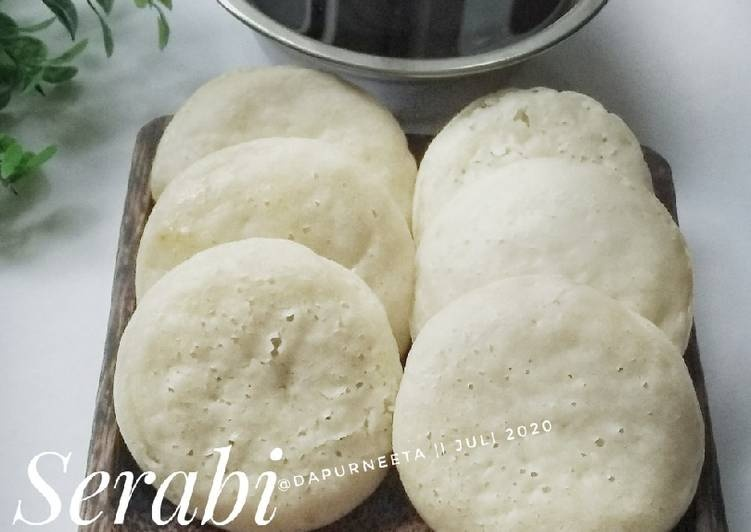srabi: (96, 210, 397, 521), (409, 277, 713, 529)
